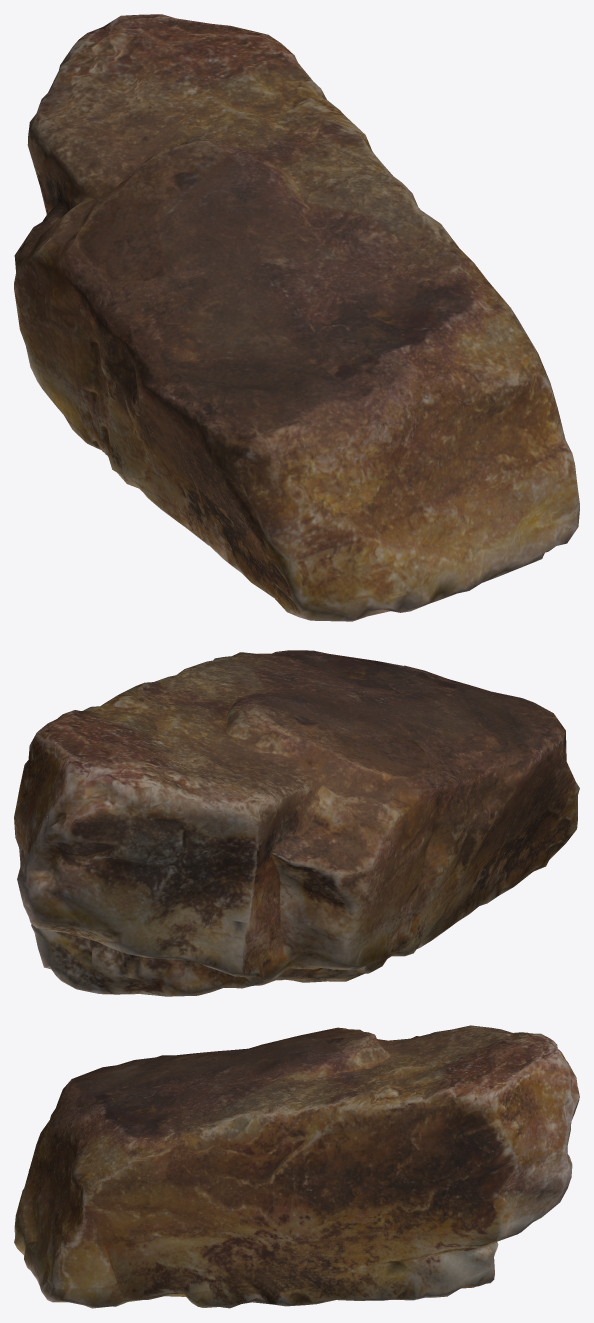
The model's file is RockNatural.fbx.
The picture shows the model from 3 angles, top to bottom: view 1: azimuth 30°, elevation 25°; view 2: azimuth 150°, elevation 25°; view 3: azimuth 270°, elevation 25°; orthographic projection. The views are drawn at different scales.
Parts seen in each view (by area): view 1: RockNatural; view 2: RockNatural; view 3: RockNatural.
Boxes of the visible parts, x1=… form: RockNatural: x1=14, y1=14, x2=579, y2=621; RockNatural: x1=14, y1=650, x2=579, y2=996; RockNatural: x1=14, y1=1025, x2=579, y2=1308.
Size of the model in its own units: 0.1689 by 0.1436 by 0.3205.
